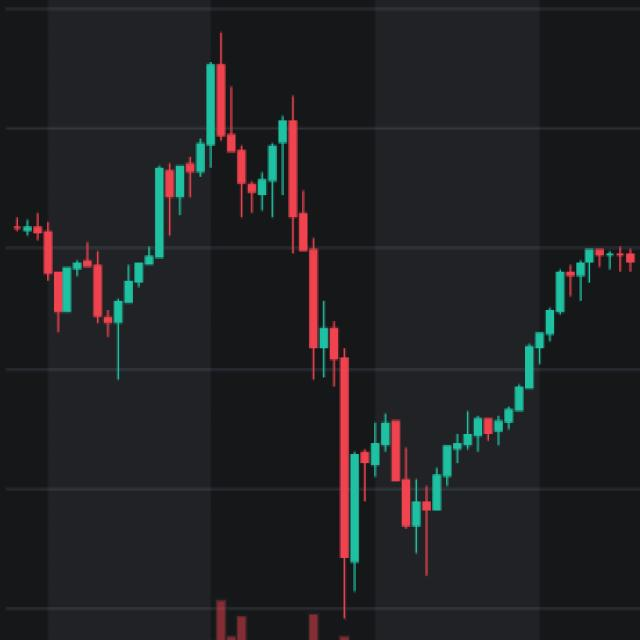Descending-Triangle: (143, 0, 416, 215)
Inverse-Head-Shoulders: (309, 245, 558, 572)
Triangle: (299, 283, 465, 629)
